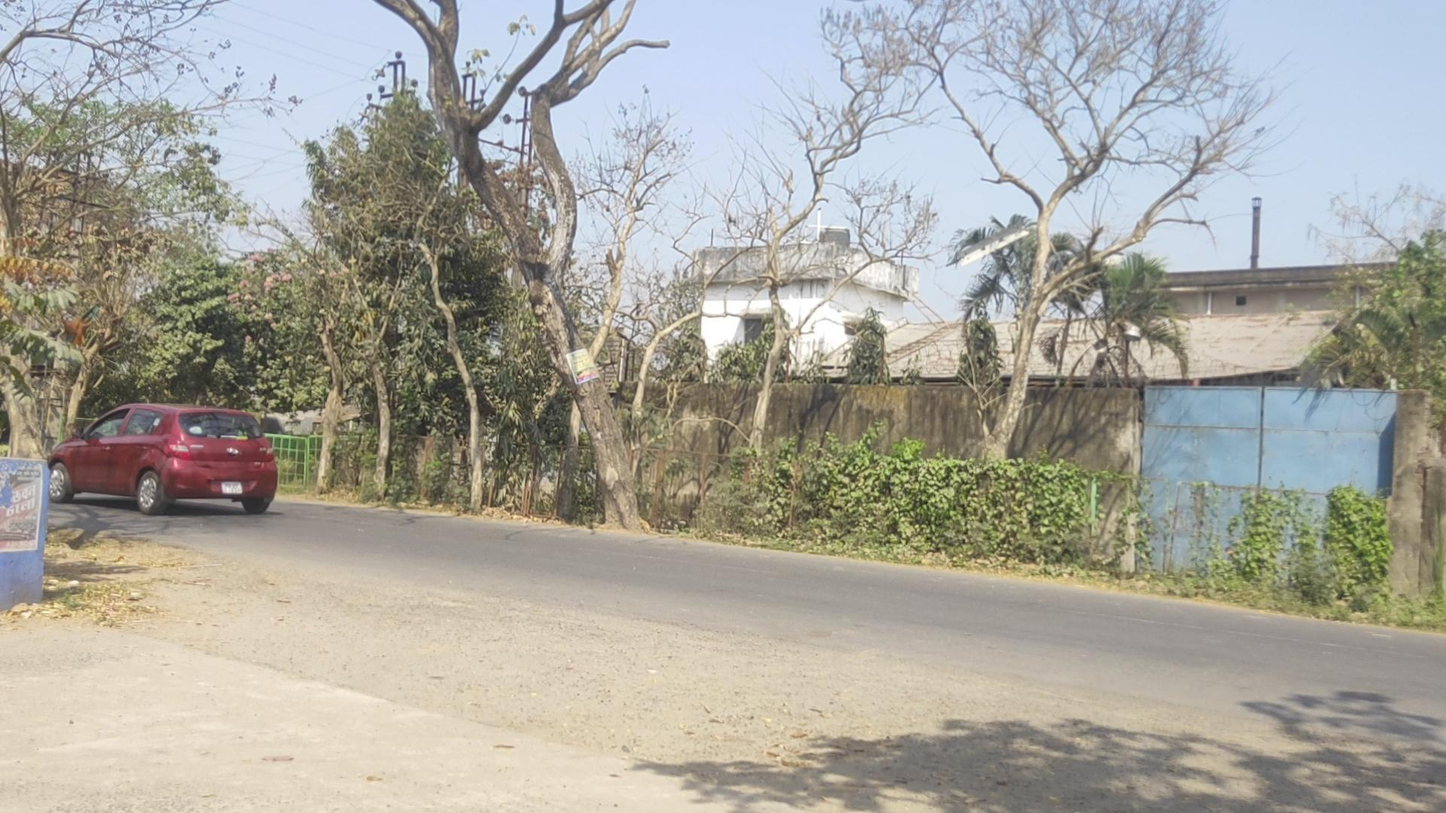car: (46, 403, 279, 516)
